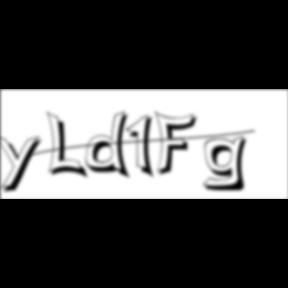1: (126, 114, 160, 182)
F: (155, 110, 203, 178)
L: (47, 110, 91, 182)
d: (86, 110, 136, 182)
g: (203, 134, 255, 194)
y: (0, 132, 48, 196)
